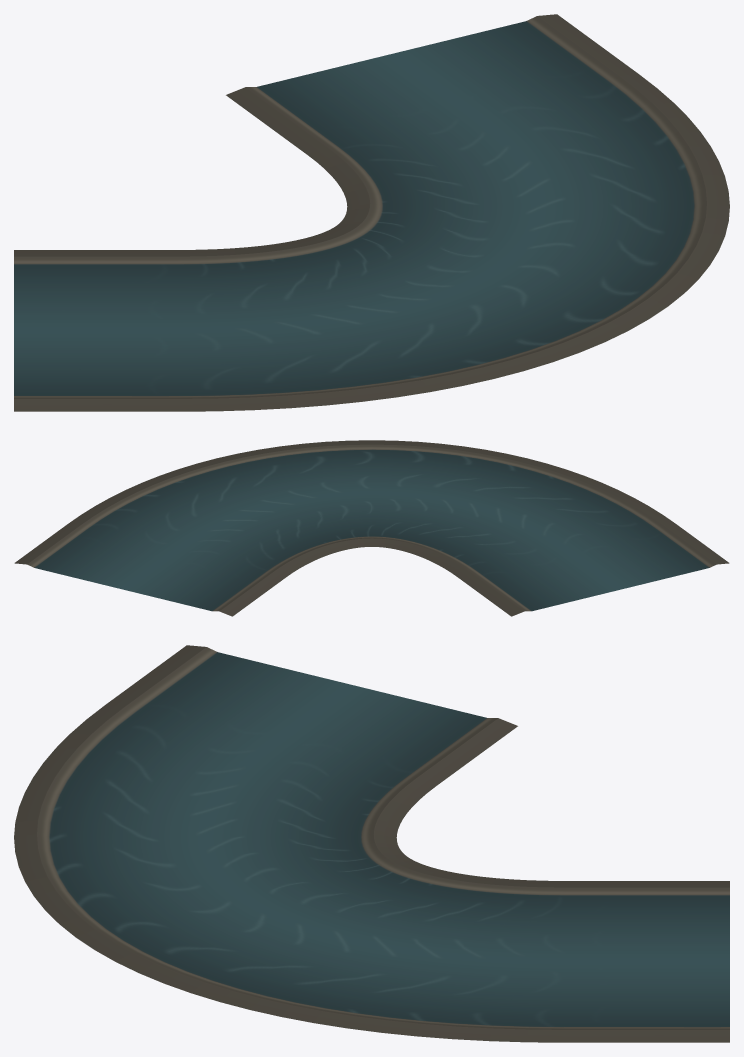
Rendered from hex_river_overlay_turn_60.glb.
The picture shows the model from 3 angles, top to bottom: view 1: azimuth 30°, elevation 25°; view 2: azimuth 150°, elevation 25°; view 3: azimuth 270°, elevation 25°; orthographic projection. The views are drawn at different scales.
Visible parts, largest first — view 1: Independent painted river ribbon; view 2: Independent painted river ribbon; view 3: Independent painted river ribbon.
Part boxes in pixels (box(x1,y1,x2,y2)): Independent painted river ribbon: box(14, 14, 729, 411); Independent painted river ribbon: box(14, 440, 729, 616); Independent painted river ribbon: box(14, 645, 729, 1042).
Size of the model in its own units: 2.75 by 0.01 by 2.09.
Materials: 1 (1 with a texture image).
